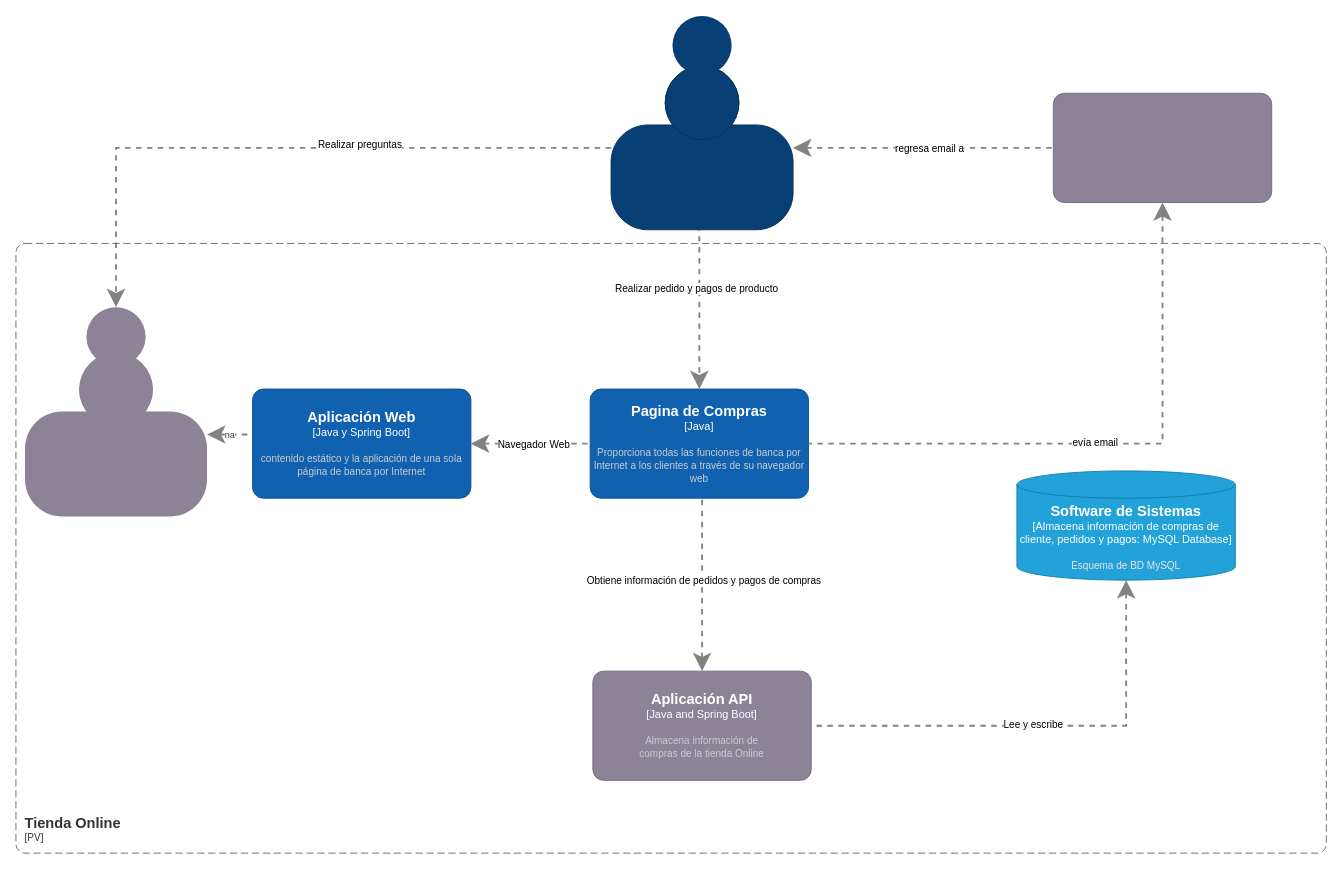
The diagram is 1342 pixels wide and 869 high, and some of its shapes have lost their labels. Each missing label, with the centre of its shape:
"Cliente de Tienda [Persona] Una clienta de tienda, productos" goes at point 701,147.
"Personal servicio al cliente [Persona] Sttaf servicio al cliente" goes at point 116,434.
"Sistema de correo [Software de Sistema] Sistema de correo email" goes at point 1162,147.
